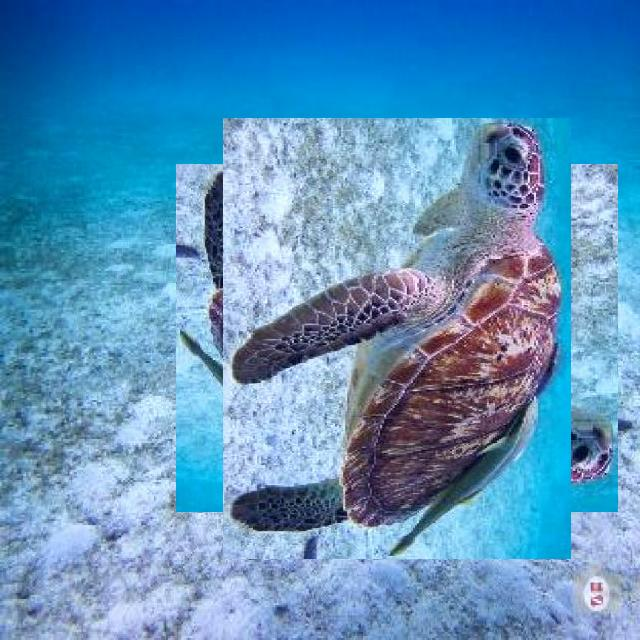Sea turtle: (200, 140, 595, 536)
